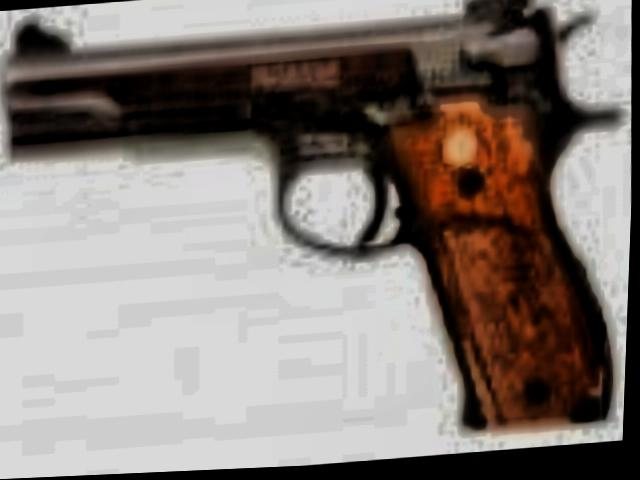pistol: (0, 0, 619, 463)
